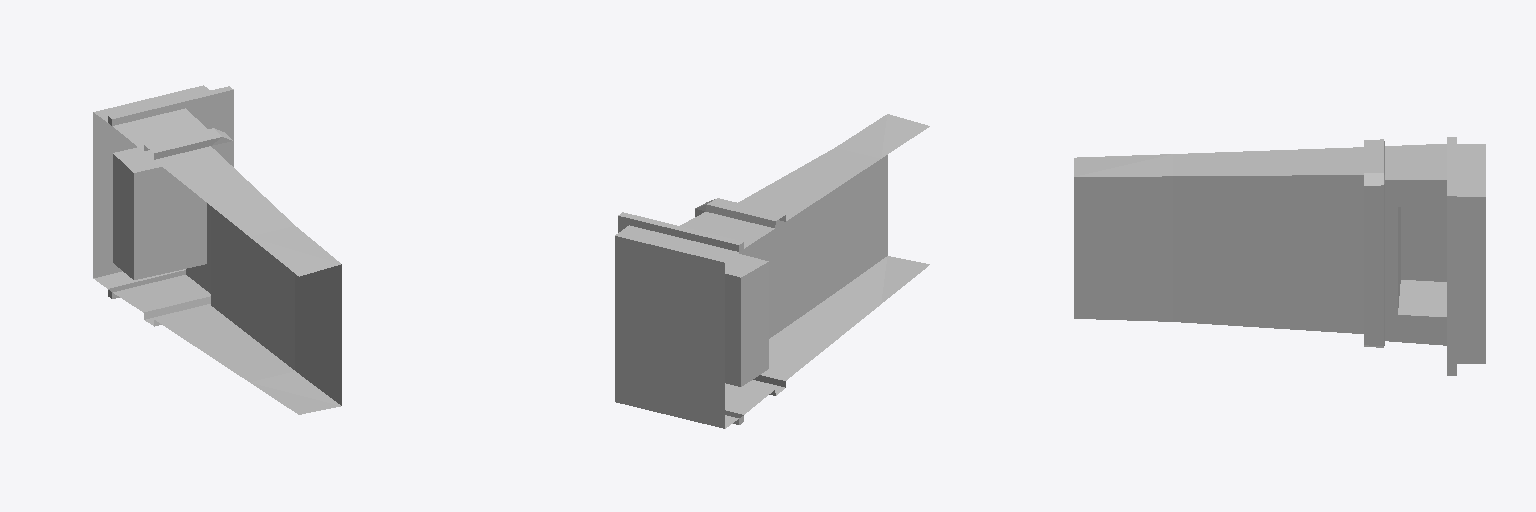
The model's file is FireplaceTest.obj.
The picture shows the model from 3 angles: view 1: azimuth 30°, elevation 25°; view 2: azimuth 150°, elevation 25°; view 3: azimuth 270°, elevation 25°; orthographic projection.
Parts seen in each view (by area): view 1: Fireplace; view 2: Fireplace; view 3: Fireplace.
Boxes of the visible parts, x1=… form: Fireplace: x1=93, y1=85, x2=341, y2=414; Fireplace: x1=615, y1=114, x2=929, y2=428; Fireplace: x1=1074, y1=137, x2=1485, y2=375.
Size of the model in its own units: 16.72 by 23.4 by 48.4.